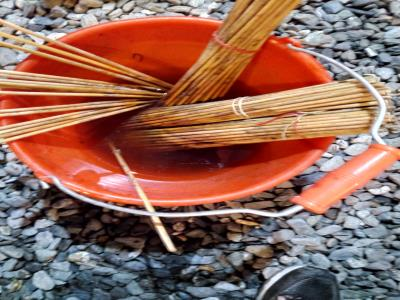bucket: (2, 14, 391, 223)
